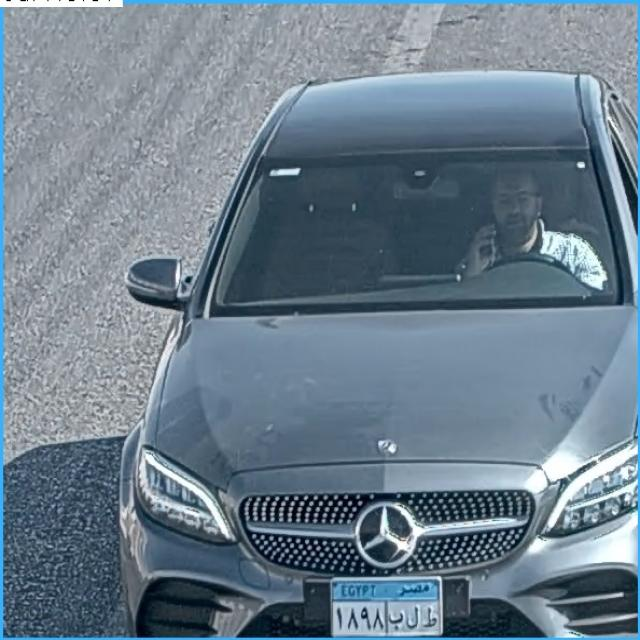windshield: (202, 137, 626, 310)
